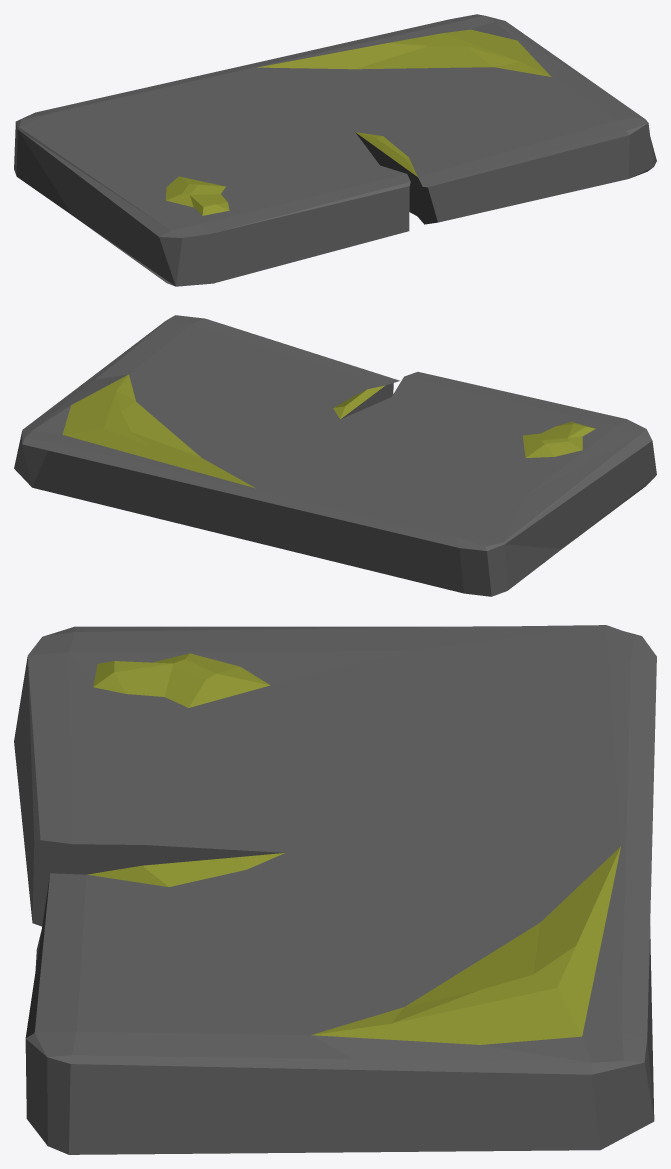
Rendered from tile_moss_type_2_LOD1.fbx.
3 renders of one model, top to bottom at view 1: azimuth 30°, elevation 25°; view 2: azimuth 150°, elevation 25°; view 3: azimuth 270°, elevation 25°, orthographic. The views are drawn at different scales.
Parts seen in each view (by area): view 1: tile_moss_type_2; view 2: tile_moss_type_2; view 3: tile_moss_type_2.
Boxes of the visible parts, bbox=[...] form: tile_moss_type_2: bbox=[14, 14, 656, 286]; tile_moss_type_2: bbox=[14, 315, 656, 596]; tile_moss_type_2: bbox=[14, 625, 656, 1154].
Size of the model in its own units: 202 by 22.15 by 123.
